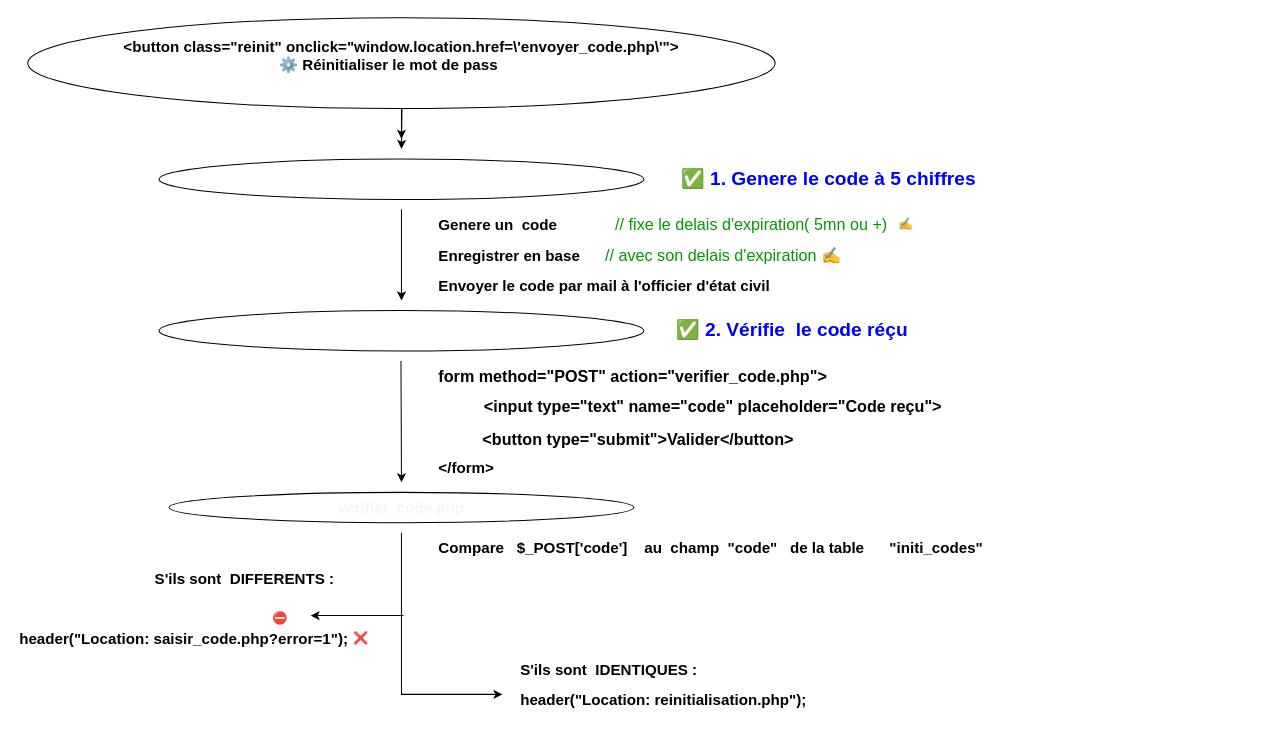
Image size: 1268x732. Some labels were removed from this diagram. The shapes that lost their labels are listed below. From the top down, each one's centre as x and y in pixels, then its label:
At (401,178): "envoyer_code.php".
At (401,330): "saisir_code.php".
